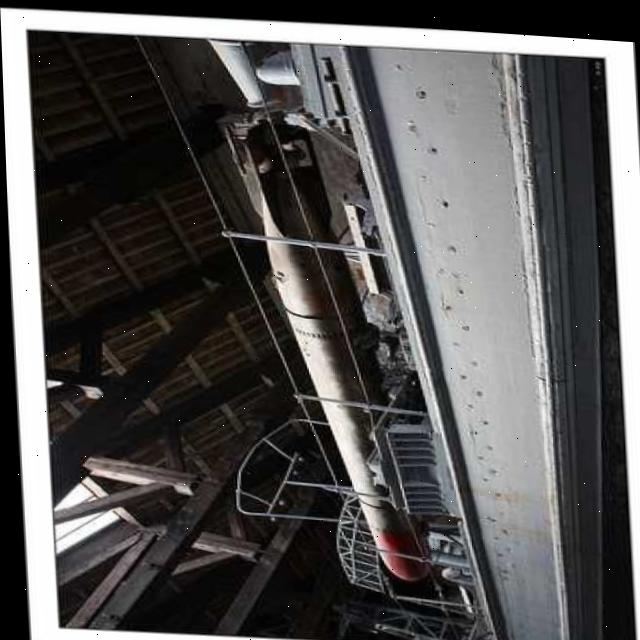missile: (225, 79, 422, 577)
